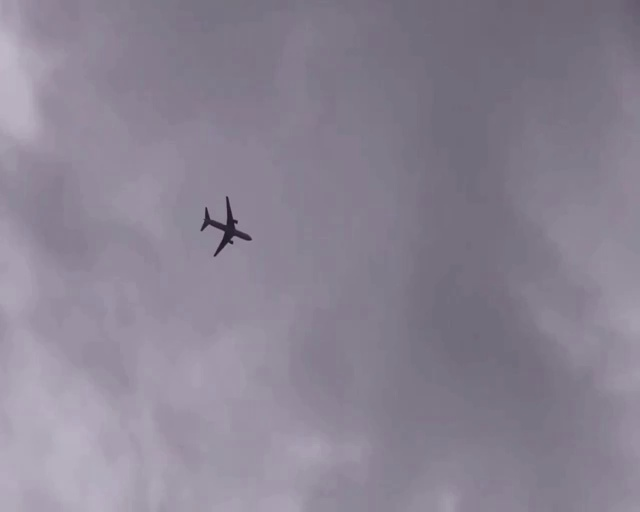AIRPLANE: (199, 195, 252, 257)
